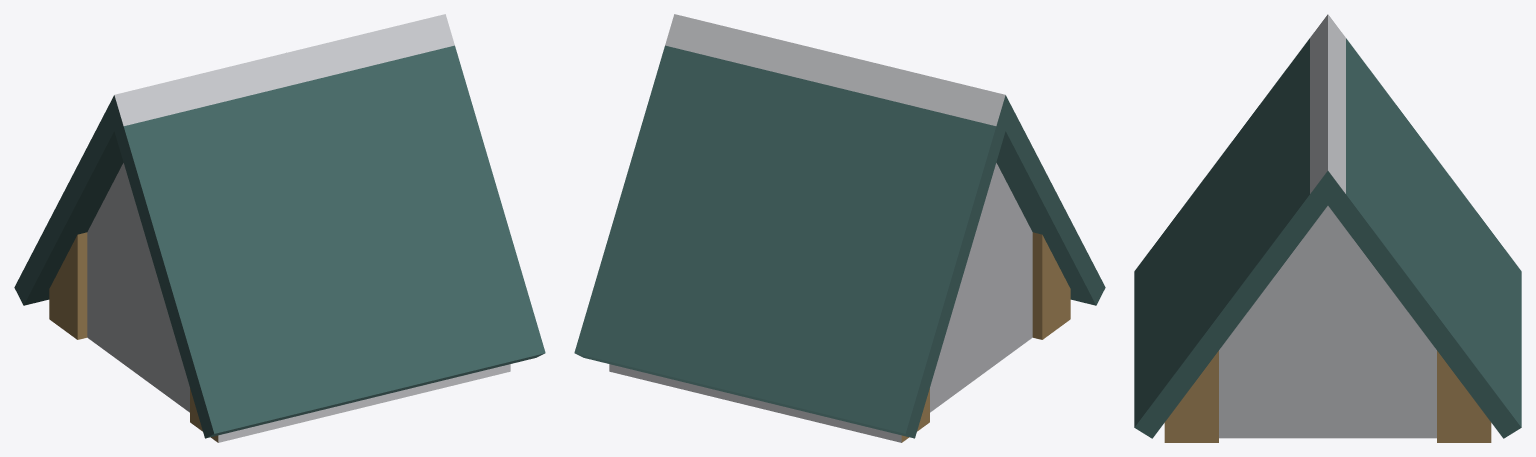
File: Roof_Straight_Green_01.obj
The picture shows the model from 3 angles, left to right: view 1: azimuth 30°, elevation 25°; view 2: azimuth 150°, elevation 25°; view 3: azimuth 270°, elevation 25°; orthographic projection. The views are drawn at different scales.
Visible parts, largest first — view 1: Mesh1 Roof_Straight_Green Model; view 2: Mesh1 Roof_Straight_Green Model; view 3: Mesh1 Roof_Straight_Green Model.
Boxes of the visible parts, left/top/right/bottom form: Mesh1 Roof_Straight_Green Model: left=14, top=14, right=545, bottom=442; Mesh1 Roof_Straight_Green Model: left=574, top=14, right=1105, bottom=442; Mesh1 Roof_Straight_Green Model: left=1134, top=14, right=1521, bottom=442.
Bounding box in the file's own units: 3.4 × 2.86 × 3.56.
